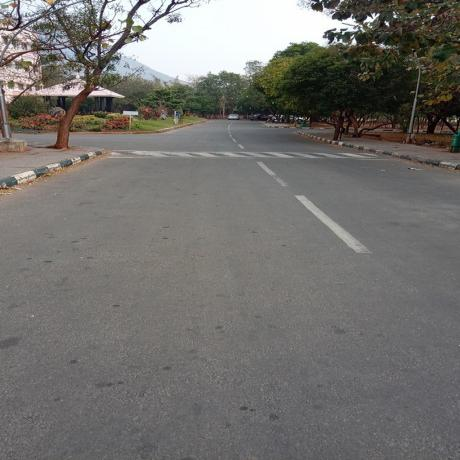Speed Bump: (101, 150, 384, 159)
